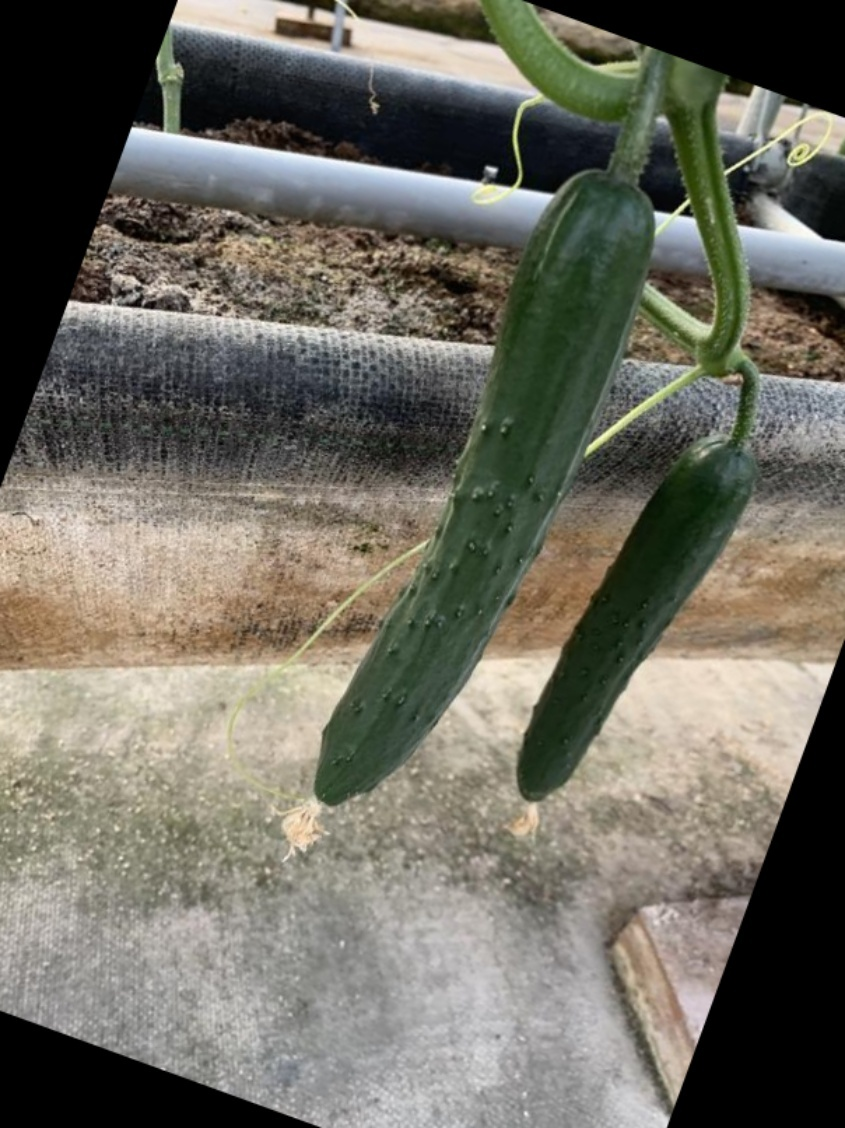mature: (509, 445, 756, 807)
